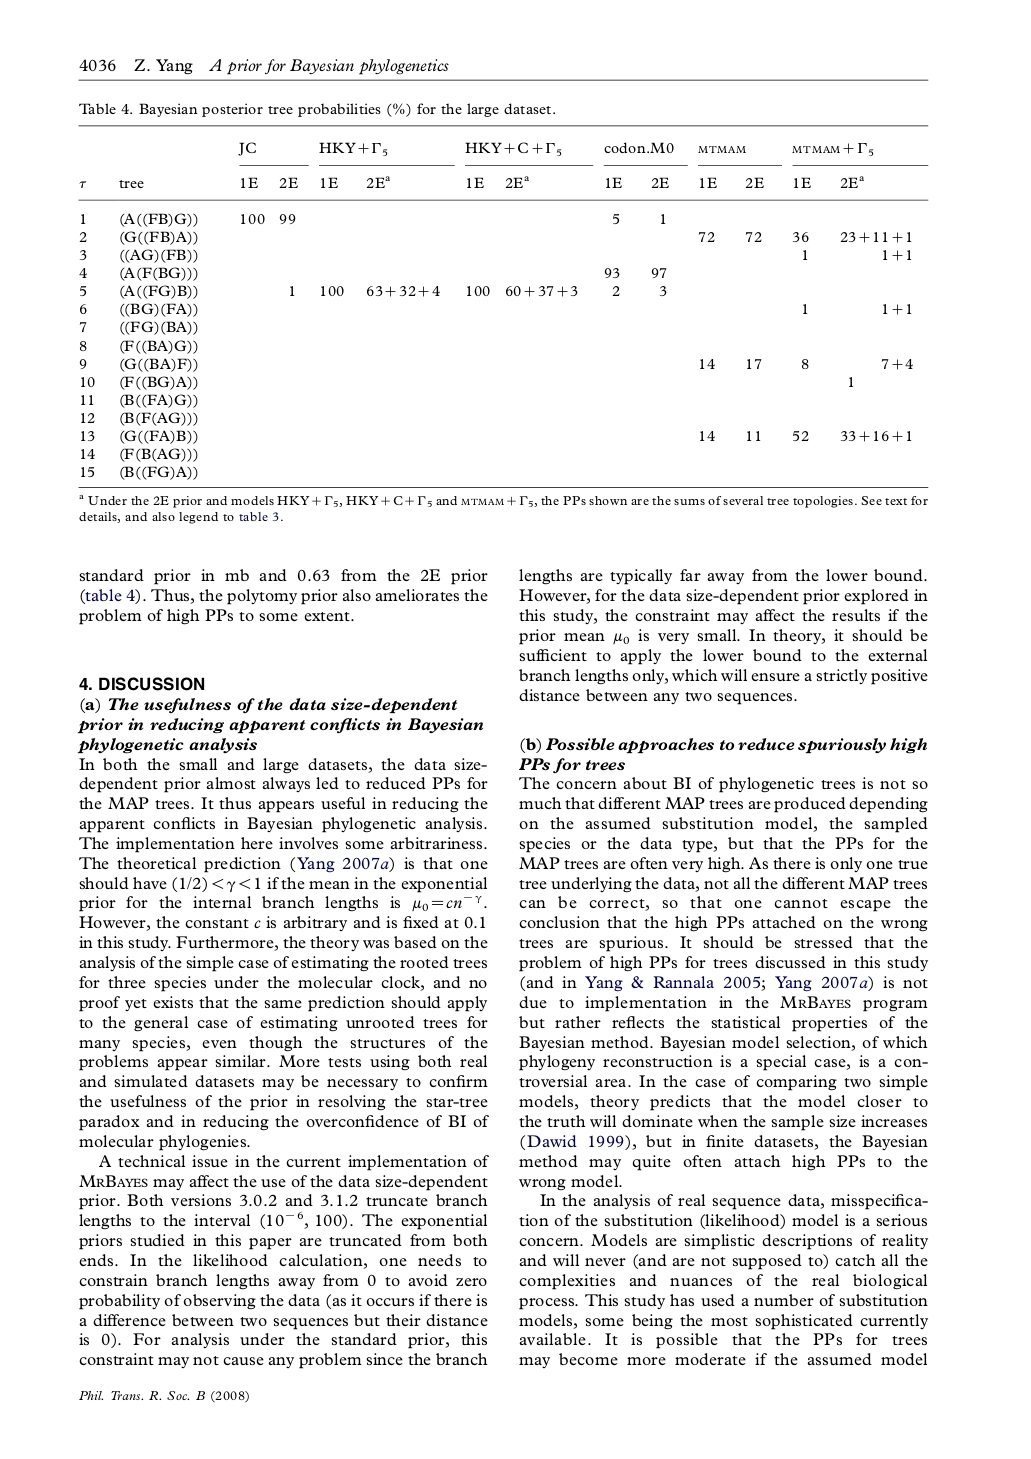Table: (78, 142, 928, 487)
